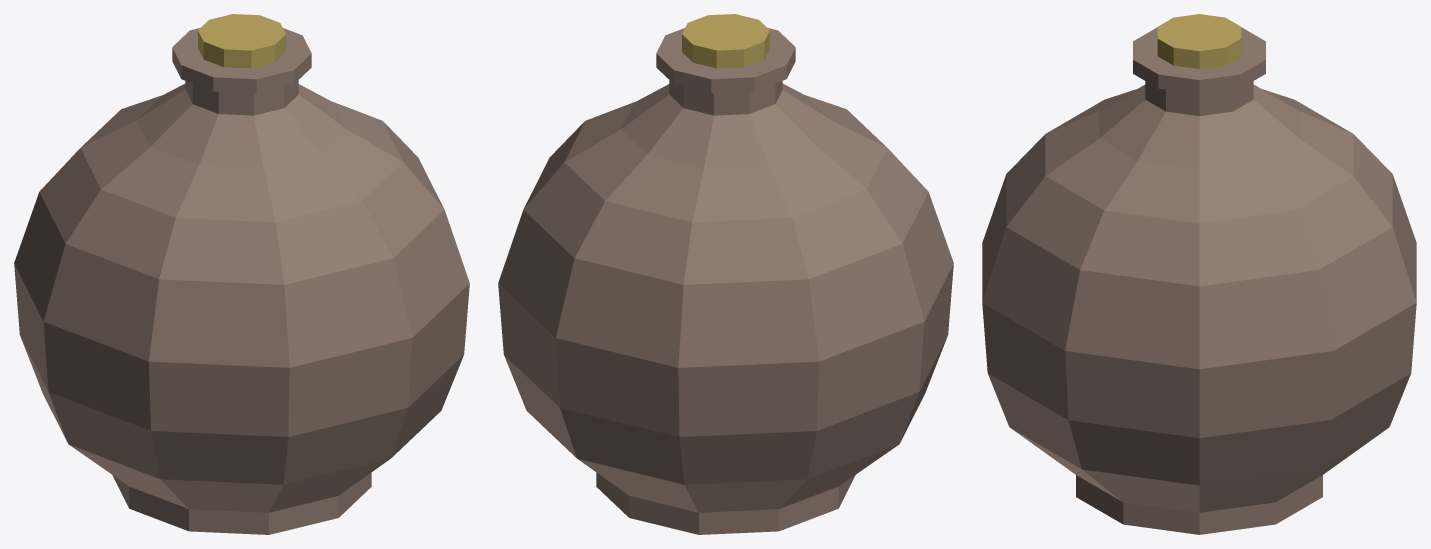
Rendered from VasoDeBarro01.fbx.
3 renders of one model, left to right at view 1: azimuth 30°, elevation 25°; view 2: azimuth 150°, elevation 25°; view 3: azimuth 270°, elevation 25°, orthographic.
Visible parts, largest first — view 1: Barro01, Tampa01; view 2: Barro01, Tampa01; view 3: Barro01, Tampa01.
Part boxes in pixels (box(x1,y1,x2,y2)): Barro01: box(14, 28, 469, 534); Tampa01: box(198, 14, 285, 68); Barro01: box(498, 28, 953, 534); Tampa01: box(682, 14, 769, 68); Barro01: box(982, 27, 1416, 534); Tampa01: box(1157, 14, 1241, 68).
Size of the model in its own units: 0.449 by 0.4853 by 0.427.
